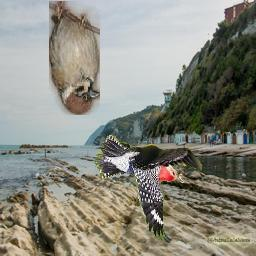Sparrow: (50, 1, 101, 115)
Woodpecker: (96, 135, 203, 243)
